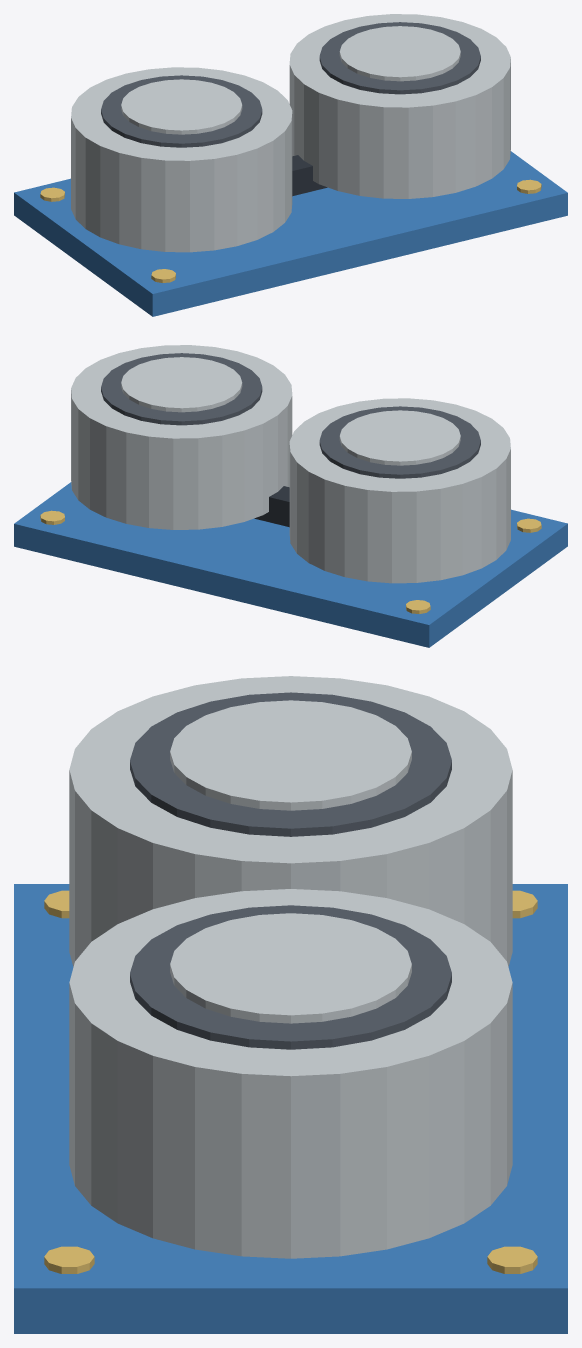
The model's file is product-7.glb.
The picture shows the model from 3 angles, top to bottom: view 1: azimuth 30°, elevation 25°; view 2: azimuth 150°, elevation 25°; view 3: azimuth 270°, elevation 25°; orthographic projection. The views are drawn at different scales.
Parts seen in each view (by area): view 1: product-7; view 2: product-7; view 3: product-7.
Part boxes in pixels (x1=…): product-7: x1=14, y1=14, x2=567, y2=316; product-7: x1=14, y1=345, x2=567, y2=647; product-7: x1=14, y1=676, x2=567, y2=1333.
Bounding box in the file's own units: 0.95 × 0.43 × 0.55.
